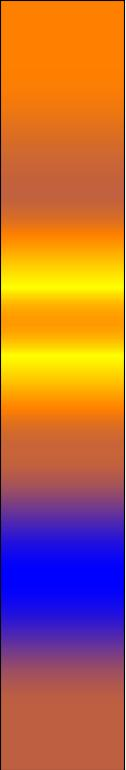Thermal Runaway: (5, 227, 120, 422), (6, 10, 113, 144)
critical: (9, 660, 115, 766), (9, 431, 119, 499), (10, 156, 118, 211)
safe: (10, 508, 115, 644)
